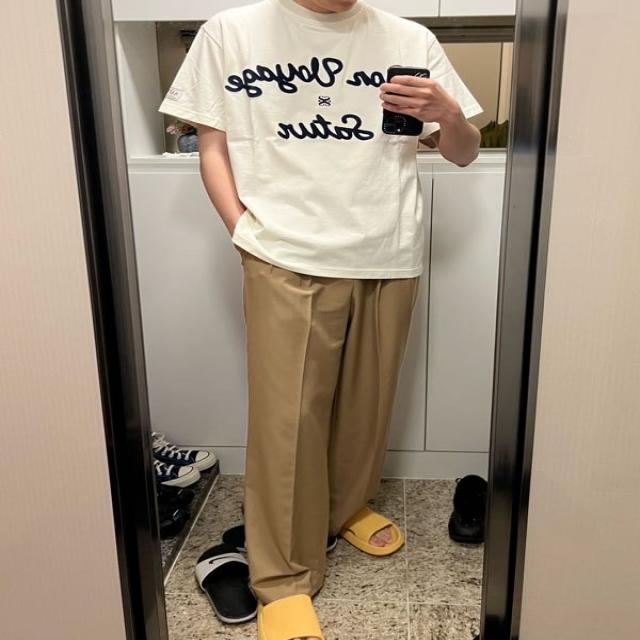shortsleeve: (159, 4, 486, 283)
slacks: (246, 247, 424, 609)
